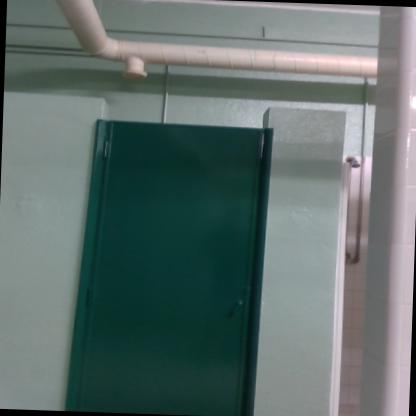closed: (81, 94, 301, 415)
